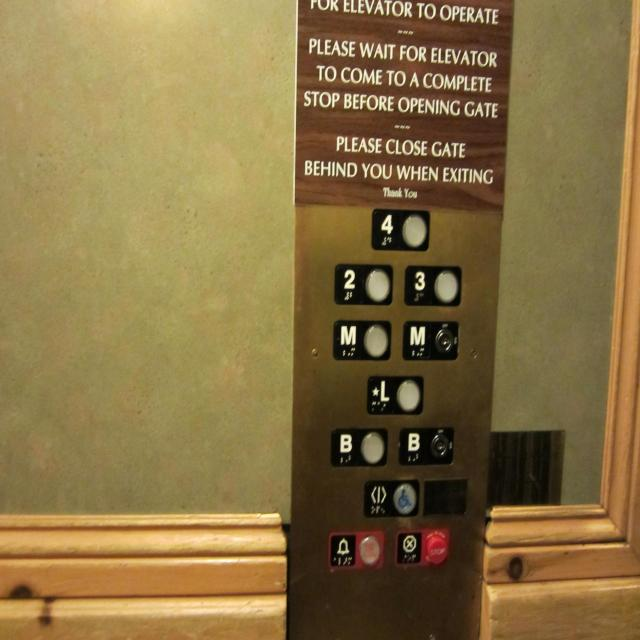2: (333, 262, 394, 307)
3: (402, 263, 463, 308)
4: (370, 207, 431, 254)
B: (330, 426, 388, 468), (398, 425, 456, 467)
L: (365, 374, 425, 416)
M: (332, 318, 392, 362), (400, 318, 460, 362)
alarm: (329, 533, 356, 567)
blur: (357, 533, 382, 567)
open: (362, 478, 420, 520)
stop: (396, 531, 422, 564)
text_stop: (424, 531, 450, 565)
